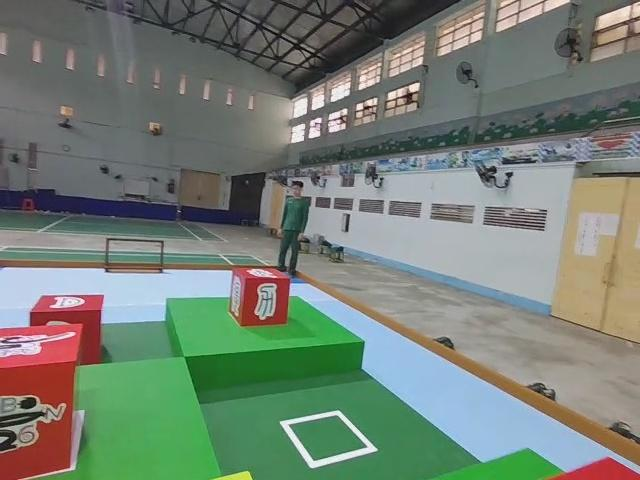R1: (0, 320, 87, 480)
R2 Fake: (227, 263, 293, 329)
